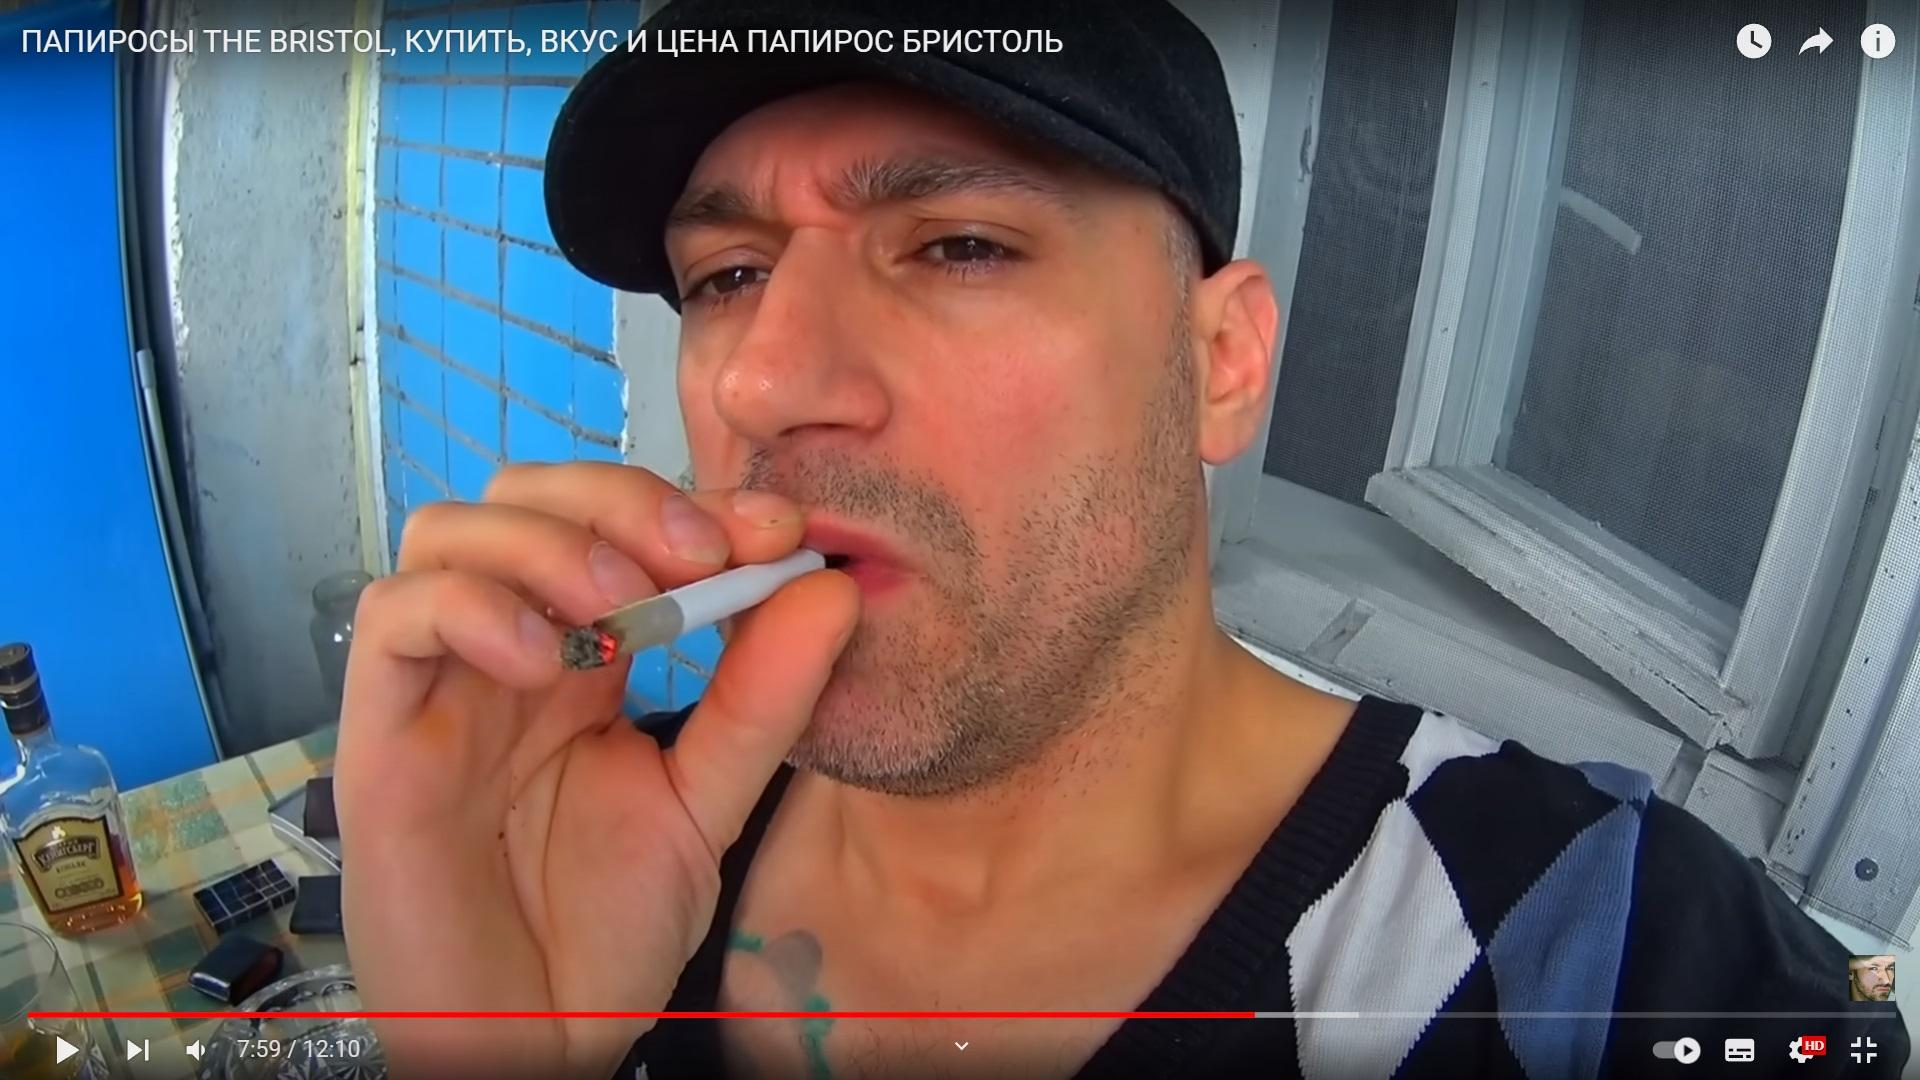cigarette: (559, 543, 824, 671)
